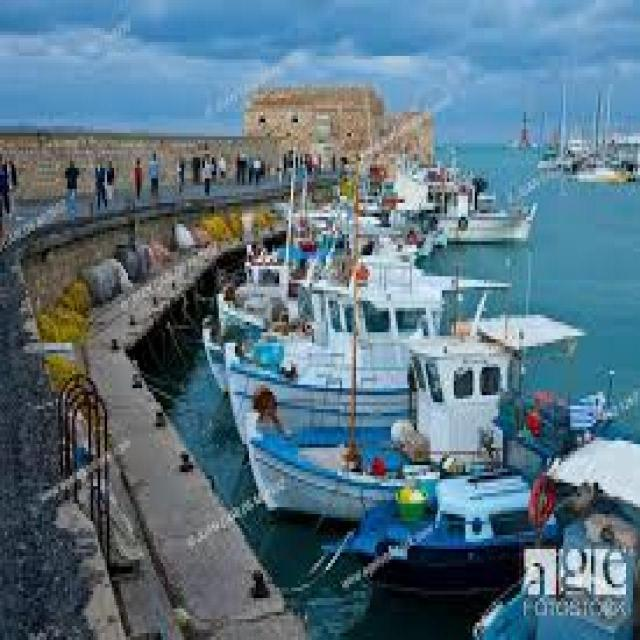Kules: (245, 85, 433, 170)
